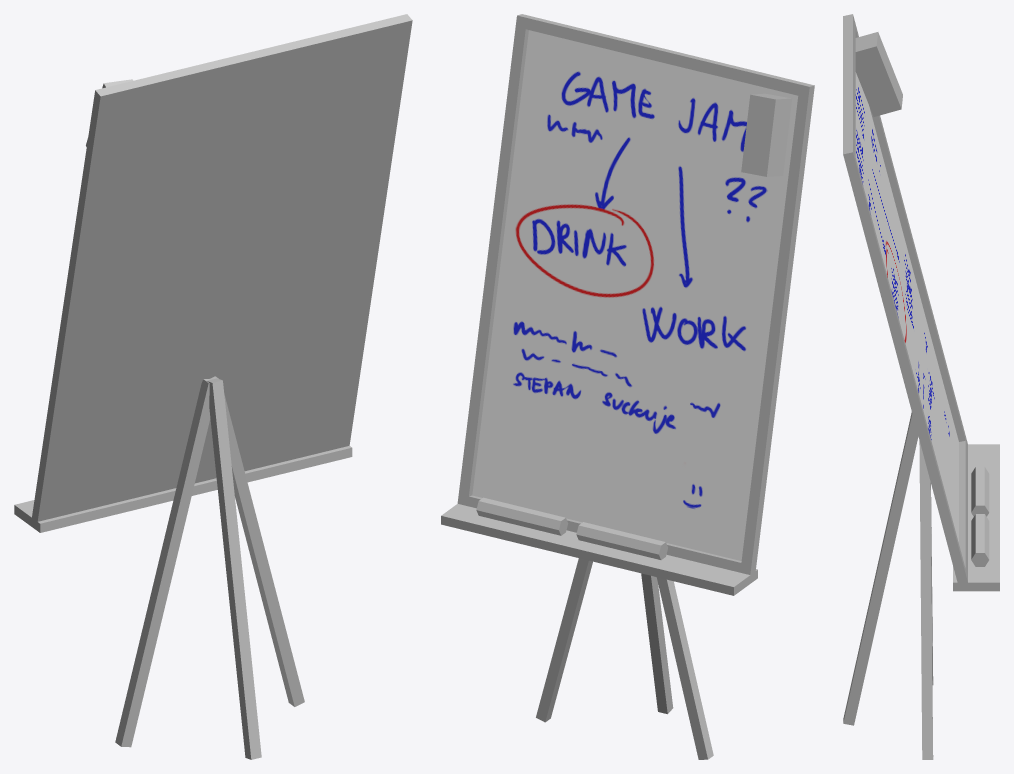
File: whiteboard.fbx
The picture shows the model from 3 angles, left to right: view 1: azimuth 30°, elevation 25°; view 2: azimuth 150°, elevation 25°; view 3: azimuth 270°, elevation 25°; orthographic projection. The views are drawn at different scales.
Parts seen in each view (by area): view 1: Plane.064, Cube.035, Cube.032, Cube.033; view 2: Plane.064, Cube.033, Cube.035, Cube.034, Cube.032, Cylinder.009, Cylinder.010; view 3: Plane.064, Cube.032, Cube.035, Cube.033, Cube.034, Cylinder.009, Cylinder.010.
Boxes of the visible parts, <box> form: Plane.064: <box>31,14,412,524</box>; Cube.035: <box>115,376,304,747</box>; Cube.032: <box>207,378,261,759</box>; Cube.033: <box>14,446,352,532</box>; Plane.064: <box>457,14,814,576</box>; Cube.033: <box>441,503,757,595</box>; Cube.035: <box>536,558,713,759</box>; Cube.034: <box>741,93,792,176</box>; Cube.032: <box>641,573,673,714</box>; Cylinder.009: <box>476,497,568,535</box>; Cylinder.010: <box>576,522,667,559</box>; Plane.064: <box>843,14,967,585</box>; Cube.032: <box>843,412,918,725</box>; Cube.035: <box>919,440,933,759</box>; Cube.033: <box>953,444,999,591</box>; Cube.034: <box>855,32,902,116</box>; Cylinder.009: <box>971,514,989,566</box>; Cylinder.010: <box>971,466,989,516</box>.
Size of the model in its own units: 100 by 216 by 47.92.
